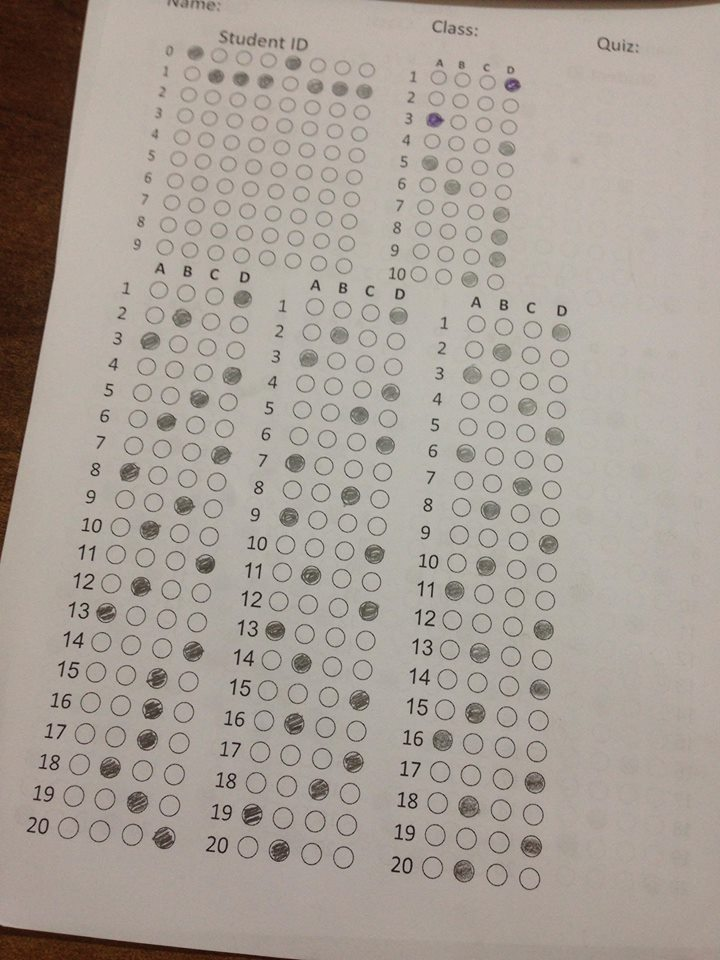not-c: (420, 854, 445, 882), (271, 803, 296, 830), (427, 759, 452, 785), (104, 724, 128, 751), (61, 783, 86, 808), (159, 792, 183, 818), (331, 843, 355, 869), (173, 699, 196, 726), (146, 462, 170, 487), (166, 732, 191, 756), (345, 717, 369, 742), (278, 744, 303, 768), (301, 841, 325, 866), (534, 560, 559, 584), (422, 822, 447, 846), (304, 810, 328, 834), (434, 698, 458, 722), (159, 577, 184, 600), (123, 604, 148, 627), (177, 671, 202, 694), (68, 752, 91, 777), (58, 813, 81, 838), (495, 703, 518, 728), (525, 739, 548, 764), (456, 825, 478, 851), (520, 865, 542, 891), (184, 610, 208, 633), (90, 630, 113, 654), (114, 664, 138, 687), (131, 759, 155, 782), (513, 448, 536, 472), (198, 523, 220, 548), (132, 546, 157, 568), (162, 550, 187, 572), (83, 661, 108, 683), (74, 722, 96, 747), (89, 818, 111, 843), (287, 683, 312, 705), (317, 687, 342, 709), (310, 747, 335, 769), (533, 590, 558, 612), (489, 830, 511, 855), (540, 452, 567, 472), (192, 362, 215, 385), (169, 522, 192, 545), (271, 561, 294, 584), (321, 656, 344, 679), (540, 479, 563, 502), (504, 585, 527, 608), (425, 792, 448, 815), (181, 440, 203, 464), (80, 689, 102, 713), (122, 821, 144, 845), (333, 541, 357, 563), (361, 570, 383, 594), (246, 771, 268, 795), (237, 835, 259, 859), (500, 644, 522, 668), (528, 708, 550, 732), (494, 736, 518, 758), (486, 863, 508, 887), (340, 780, 361, 805), (151, 437, 174, 459), (156, 608, 179, 630), (94, 787, 116, 810), (255, 680, 278, 702), (315, 715, 337, 738), (336, 814, 358, 837), (547, 399, 569, 422), (514, 421, 536, 444), (539, 506, 561, 529), (445, 552, 468, 574), (505, 558, 527, 581), (471, 613, 494, 635), (503, 615, 525, 638), (467, 672, 490, 694), (492, 768, 514, 791), (491, 798, 513, 821), (113, 490, 137, 511), (164, 762, 185, 786), (304, 296, 328, 317), (355, 629, 376, 653), (481, 474, 505, 495), (440, 609, 464, 630), (438, 640, 462, 661), (461, 763, 482, 787), (522, 804, 546, 825), (159, 385, 181, 407), (110, 516, 132, 538), (191, 581, 213, 603), (119, 634, 141, 656), (268, 590, 290, 612), (254, 710, 276, 732), (473, 583, 495, 605), (462, 733, 484, 755), (122, 435, 145, 456), (105, 544, 128, 565), (151, 637, 172, 660), (111, 694, 132, 717), (332, 298, 355, 319), (386, 330, 407, 353), (369, 487, 390, 510), (324, 625, 345, 648), (261, 650, 284, 671), (278, 775, 299, 798), (487, 393, 510, 414), (449, 523, 470, 546), (435, 669, 458, 690), (196, 337, 218, 358), (127, 408, 149, 429), (308, 509, 329, 531), (305, 538, 327, 559), (353, 660, 375, 681), (250, 742, 272, 763), (548, 373, 570, 394), (511, 502, 532, 524), (500, 676, 522, 697), (176, 468, 199, 488), (372, 463, 395, 483), (274, 534, 297, 554), (548, 348, 571, 368), (518, 371, 541, 391), (478, 526, 498, 549), (149, 279, 170, 300), (229, 314, 250, 335), (214, 417, 235, 438), (206, 472, 227, 493), (204, 498, 225, 519), (101, 574, 122, 595), (324, 377, 345, 398), (314, 455, 335, 476), (298, 594, 319, 615), (451, 497, 472, 518), (168, 334, 190, 354), (225, 340, 247, 360), (312, 482, 332, 504), (489, 368, 511, 388), (453, 471, 475, 491), (530, 650, 552, 670), (467, 315, 490, 334), (484, 420, 507, 439), (209, 220, 229, 241), (285, 228, 306, 248), (205, 242, 226, 262), (144, 305, 165, 325), (186, 415, 207, 435), (358, 328, 379, 348), (356, 354, 376, 375), (289, 426, 309, 447), (495, 160, 516, 180), (524, 320, 544, 341), (460, 391, 481, 411), (509, 531, 529, 552), (361, 304, 383, 323), (291, 401, 314, 419), (202, 87, 222, 107), (272, 137, 292, 157), (240, 178, 260, 198), (165, 359, 185, 379), (133, 382, 153, 402), (144, 493, 164, 513), (327, 352, 347, 372), (296, 375, 316, 395), (346, 432, 366, 452), (344, 458, 364, 478), (329, 598, 349, 618), (175, 107, 196, 126), (158, 216, 179, 235), (335, 256, 356, 275), (200, 312, 221, 331), (320, 403, 341, 422), (317, 429, 338, 448), (282, 481, 303, 500), (368, 516, 387, 537), (332, 570, 353, 589), (295, 624, 314, 645), (468, 180, 489, 199), (494, 316, 513, 337), (444, 157, 466, 175), (465, 339, 483, 361), (222, 133, 242, 152), (347, 145, 367, 164), (194, 151, 213, 171), (244, 157, 264, 176), (235, 223, 254, 243), (232, 246, 252, 265), (256, 248, 276, 267), (205, 287, 225, 306), (353, 380, 373, 399), (379, 409, 398, 429), (429, 67, 448, 87), (475, 115, 494, 135), (522, 346, 542, 365), (458, 417, 478, 436), (228, 92, 249, 110), (217, 393, 238, 411), (302, 323, 323, 341), (383, 358, 404, 376), (447, 113, 468, 131), (409, 265, 430, 283), (485, 447, 506, 465), (326, 121, 345, 140), (173, 127, 192, 146), (216, 176, 235, 195), (318, 188, 337, 207), (188, 195, 207, 214), (309, 253, 328, 272), (137, 357, 156, 376), (501, 96, 520, 115), (500, 119, 519, 138), (446, 134, 465, 153), (433, 267, 452, 286), (486, 272, 505, 291), (339, 212, 359, 230), (312, 232, 332, 250), (337, 513, 357, 531), (465, 204, 486, 221), (251, 115, 270, 133), (197, 130, 216, 148), (169, 149, 187, 168), (219, 155, 237, 174), (190, 174, 209, 192), (213, 199, 232, 217), (289, 206, 308, 224), (185, 218, 204, 236), (261, 226, 280, 244), (156, 239, 175, 257), (181, 240, 199, 259), (284, 251, 302, 270), (176, 284, 195, 302), (470, 159, 489, 177), (472, 138, 492, 155), (412, 220, 432, 237), (463, 249, 483, 266), (180, 85, 198, 103), (494, 183, 512, 201), (412, 243, 430, 261), (437, 245, 455, 263), (254, 95, 273, 112), (200, 110, 219, 127), (225, 112, 244, 129), (248, 136, 267, 153), (295, 163, 314, 180), (320, 166, 339, 183), (238, 202, 257, 219), (418, 177, 437, 194), (416, 199, 435, 216), (442, 201, 461, 218), (439, 223, 458, 240), (464, 226, 483, 243), (328, 102, 348, 118), (322, 145, 342, 161), (210, 47, 228, 64), (309, 56, 327, 73), (235, 49, 253, 66), (183, 65, 201, 82), (282, 75, 300, 92), (353, 104, 371, 121), (358, 61, 376, 78), (333, 58, 351, 75), (279, 96, 297, 113), (351, 126, 368, 144), (269, 160, 287, 177), (268, 182, 285, 200), (293, 185, 311, 202), (343, 191, 361, 208), (315, 210, 333, 227), (300, 120, 319, 136), (297, 142, 316, 158), (345, 169, 364, 185), (338, 235, 357, 251), (479, 75, 498, 91), (426, 91, 445, 107), (423, 133, 442, 149), (260, 51, 277, 68), (276, 116, 293, 133), (478, 95, 495, 112), (304, 99, 322, 115), (167, 172, 185, 188), (263, 206, 281, 222), (454, 72, 472, 88), (453, 92, 469, 110), (163, 196, 180, 212)
taken-c: (267, 837, 292, 864), (152, 825, 177, 850), (240, 802, 264, 827), (357, 599, 381, 623), (283, 711, 306, 736), (209, 444, 233, 467), (136, 728, 159, 752), (99, 756, 122, 780), (348, 688, 371, 712), (264, 619, 287, 643), (524, 770, 547, 794), (520, 834, 543, 858), (118, 461, 141, 484), (129, 575, 152, 598), (95, 602, 118, 625), (181, 640, 204, 663), (141, 697, 164, 720), (453, 860, 476, 883), (193, 553, 217, 575), (308, 777, 330, 801), (464, 701, 486, 725), (458, 795, 480, 819), (138, 519, 161, 541), (146, 667, 168, 690), (290, 652, 313, 674), (479, 499, 502, 521), (468, 642, 491, 664), (432, 729, 454, 752), (127, 790, 148, 814), (364, 543, 386, 565), (375, 434, 397, 456), (529, 679, 551, 701), (343, 750, 364, 773), (184, 42, 206, 63), (173, 495, 195, 516), (278, 506, 300, 527), (511, 476, 533, 497), (537, 534, 559, 555), (444, 579, 465, 601), (533, 619, 554, 641), (301, 565, 322, 586), (285, 453, 306, 474), (544, 425, 565, 446), (456, 443, 477, 464), (476, 556, 497, 577), (155, 411, 177, 431), (379, 381, 401, 401), (387, 305, 409, 325), (348, 405, 370, 425), (188, 388, 210, 408), (220, 365, 242, 385), (327, 324, 349, 344), (296, 347, 318, 367), (170, 307, 192, 327), (138, 330, 160, 350), (304, 76, 325, 96), (232, 289, 253, 309), (341, 485, 361, 506), (492, 342, 512, 363), (462, 365, 483, 385), (551, 323, 573, 342), (517, 397, 537, 417), (330, 78, 350, 97), (423, 111, 444, 129), (489, 228, 510, 246), (284, 54, 303, 73), (460, 270, 479, 289), (205, 67, 225, 85), (231, 70, 250, 88), (255, 71, 273, 90), (492, 205, 511, 223), (488, 250, 507, 268), (503, 76, 522, 93), (497, 140, 516, 157), (444, 178, 461, 196), (421, 155, 440, 171), (354, 83, 372, 98)
